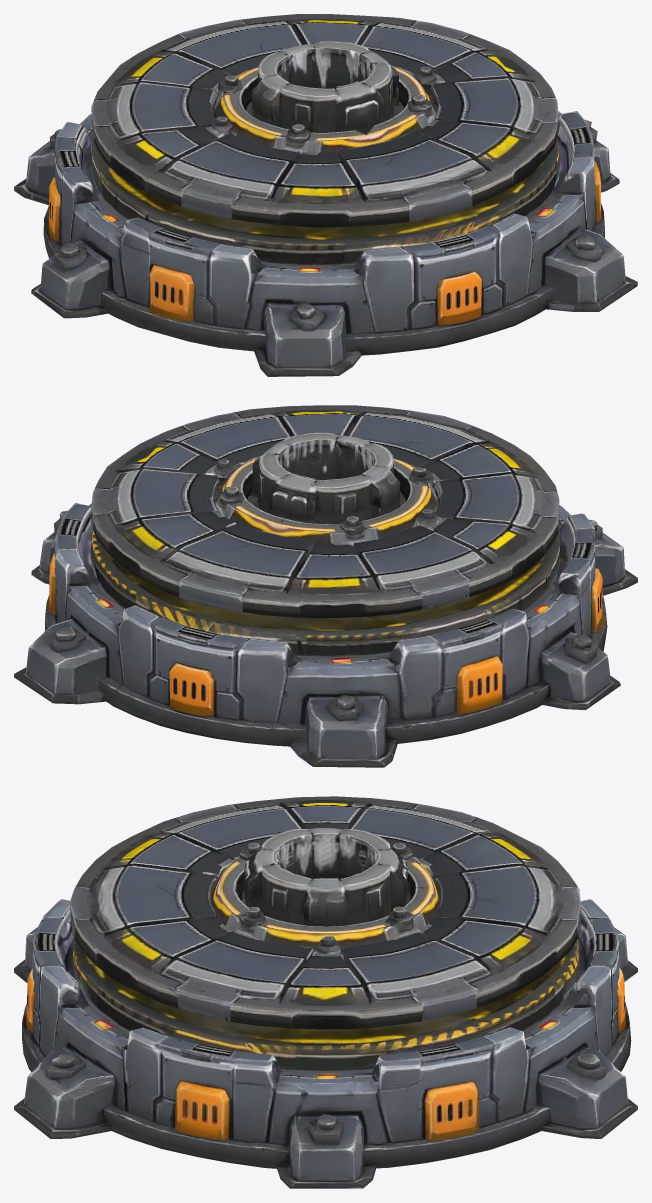
The model's file is gun_holder.glb.
3 views of the same model, one above another, from view 1: azimuth 30°, elevation 25°; view 2: azimuth 150°, elevation 25°; view 3: azimuth 270°, elevation 25° (orthographic). The views are drawn at different scales.
Parts seen in each view (by area): view 1: mesh_node; view 2: mesh_node; view 3: mesh_node.
Boxes of the visible parts, x1,y1,x2,y2 form: mesh_node: (14,14,637,376); mesh_node: (14,405,637,767); mesh_node: (14,796,637,1188).
Size of the model in its own units: 1 by 0.295 by 0.8965.
Materials: 1 (1 with a texture image).
